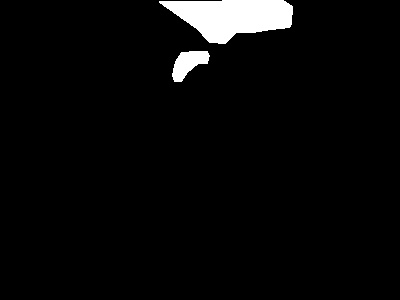Fire: (153, 1, 295, 40)
